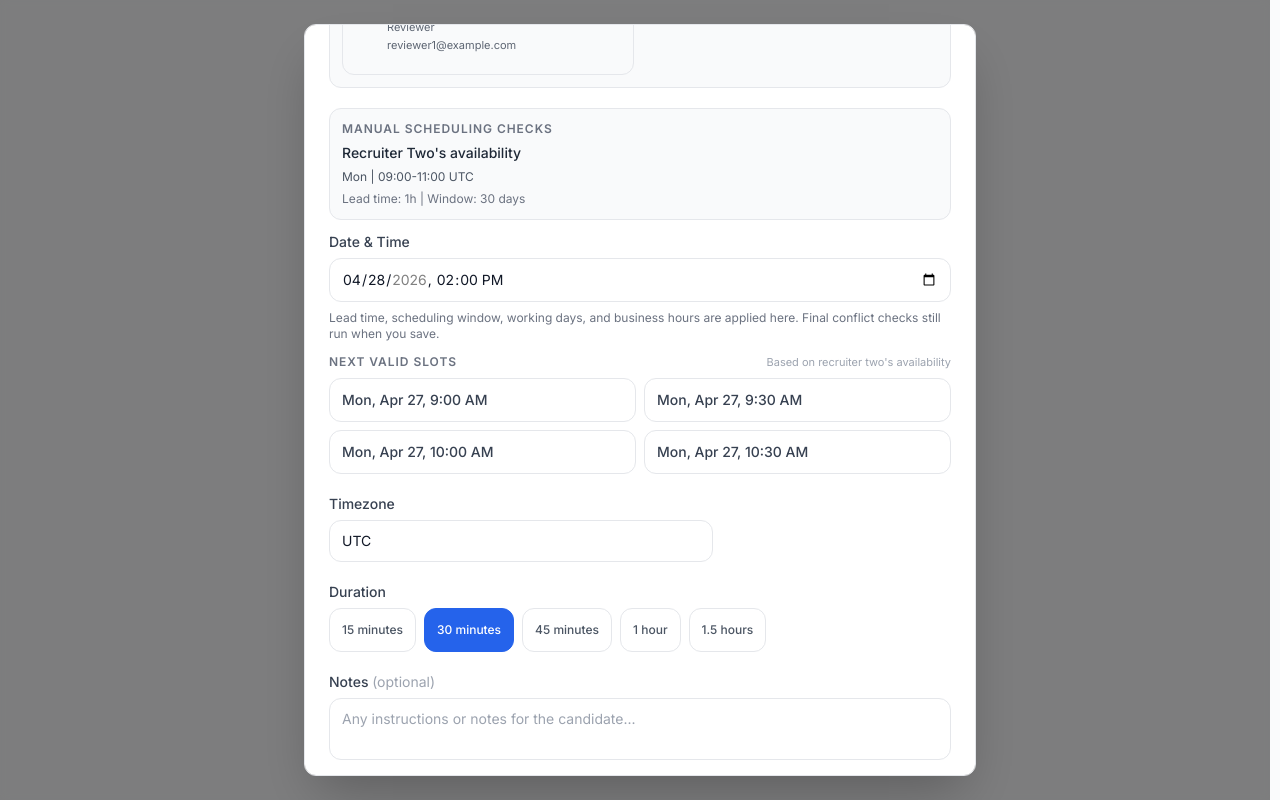
ScheduleInterviewModal › shows guided valid slots and applies a selected suggestion to the datetime input
This screenshot has width=1280, height=800.
(page scrolled)
Check: the text "Next valid slots" is shown, box [329,354,457,370]
Click the button with aria-label "Use suggested slot ": (482, 400) [329,378,636,422]
(page scrolled)
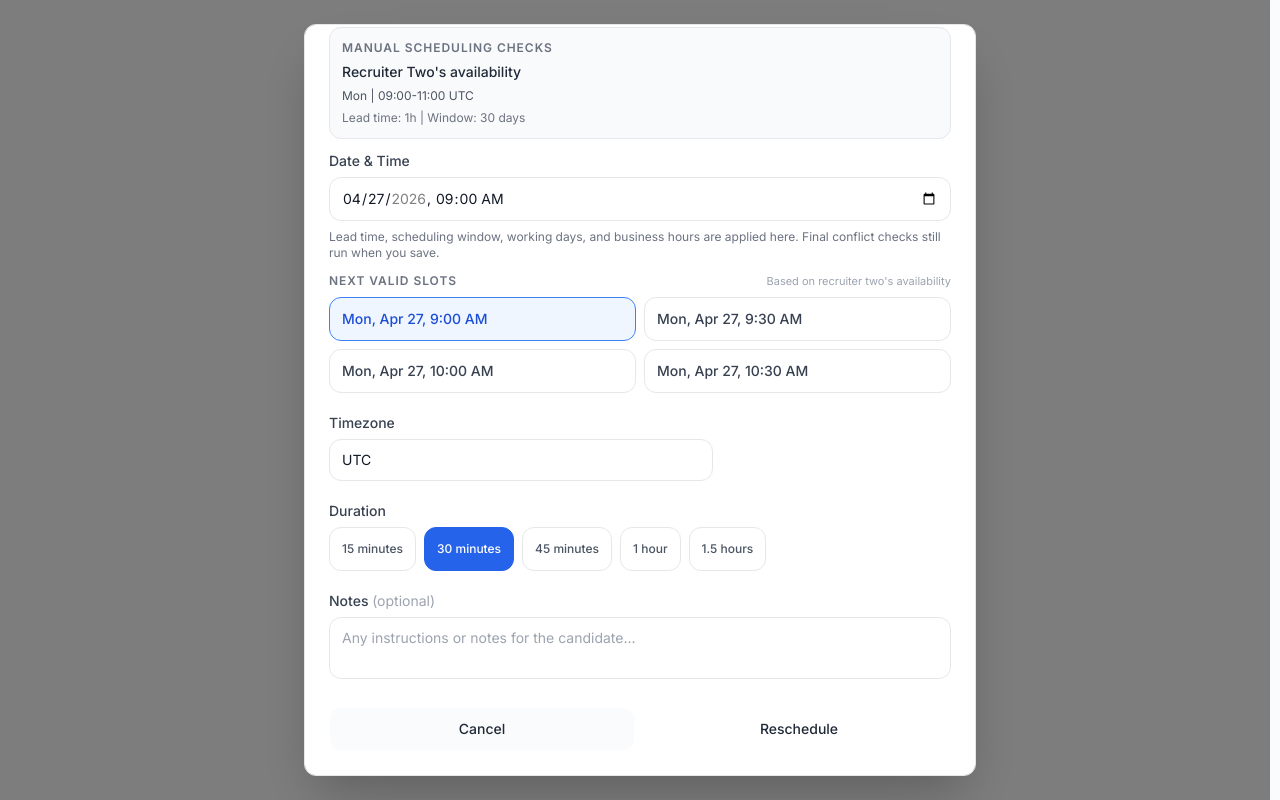
Check: the button "Reschedule" is enabled, box [647,707,951,751]
